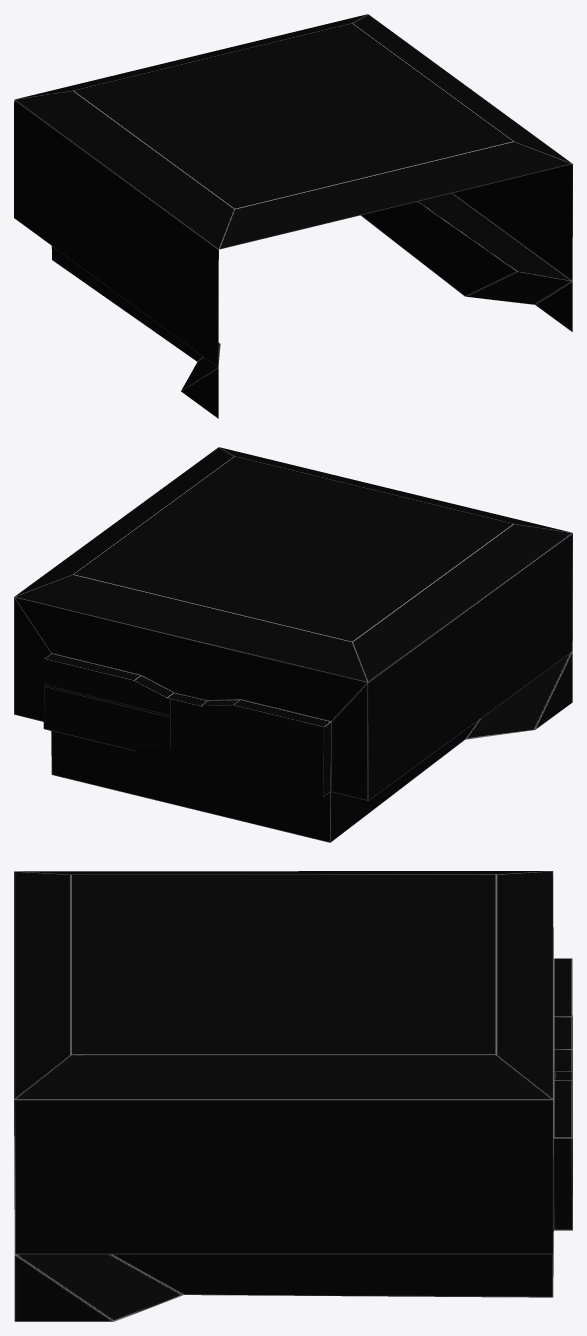
File: control_station.fbx
The picture shows the model from 3 angles, top to bottom: view 1: azimuth 30°, elevation 25°; view 2: azimuth 150°, elevation 25°; view 3: azimuth 270°, elevation 25°; orthographic projection. The views are drawn at different scales.
Visible parts, largest first — view 1: pPlane1; view 2: pPlane1; view 3: pPlane1.
Boxes of the visible parts, bbox=[...] form: pPlane1: bbox=[14, 14, 572, 418]; pPlane1: bbox=[14, 447, 572, 842]; pPlane1: bbox=[14, 871, 572, 1321].
Bounding box in the file's own units: 21.42 × 10.75 × 22.23.
